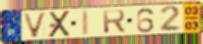2: (158, 5, 182, 34)
6: (136, 6, 156, 34)
I: (81, 9, 91, 36)
R: (101, 9, 127, 35)
V: (22, 12, 48, 39)
X: (47, 9, 73, 39)
